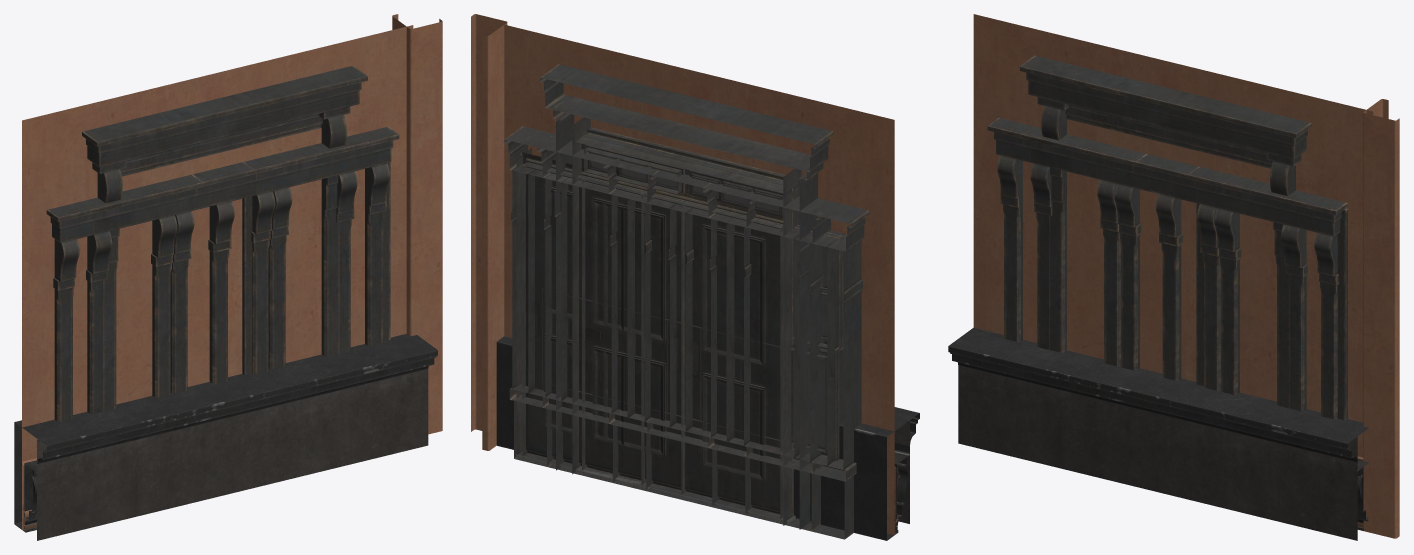
Rendered from modular_urban_apartments_facade.glb.
The picture shows the model from 3 angles, left to right: view 1: azimuth 30°, elevation 25°; view 2: azimuth 150°, elevation 25°; view 3: azimuth 330°, elevation 25°; orthographic projection. The views are drawn at different scales.
Parts seen in each view (by area): view 1: wall_door_centered_large_01, base_standard_01, door_centered_large_01, crown_standard_standard_01, wall_window_centered_small_01, window_centered_large_01, window_centered_double_01, wall_pier_corner_01, wall_window_centered_large_01, wall_window_centered_double_01, window_centered_small_01, window_offset_small_01 (+3 smaller); view 2: door_centered_large_01, door_window_small_01, wall_window_centered_large_01, window_centered_large_01, wall_door_centered_large_01, wall_pier_corner_01, wall_window_centered_double_01, crown_standard_standard_01, window_centered_double_01, window_centered_small_01, window_offset_small_01, wall_window_centered_small_01 (+3 smaller); view 3: wall_door_centered_large_01, base_standard_01, door_centered_large_01, crown_standard_standard_01, window_centered_large_01, wall_pier_corner_01, window_centered_double_01, wall_window_centered_small_01, window_centered_small_01, wall_window_centered_double_01, window_offset_small_01, wall_window_centered_large_01 (+3 smaller).
Part boxes in pixels (x1,y1,x2,y2): wall_door_centered_large_01: [22, 33, 406, 529]; base_standard_01: [37, 369, 428, 540]; door_centered_large_01: [82, 65, 367, 411]; crown_standard_standard_01: [14, 333, 437, 532]; wall_window_centered_small_01: [39, 33, 396, 404]; window_centered_large_01: [86, 158, 357, 413]; window_centered_double_01: [46, 126, 399, 421]; wall_pier_corner_01: [392, 14, 442, 434]; wall_window_centered_large_01: [22, 25, 413, 396]; wall_window_centered_double_01: [22, 28, 406, 386]; window_centered_small_01: [151, 159, 301, 397]; window_offset_small_01: [253, 135, 399, 373]; door_centered_large_01: [540, 64, 833, 529]; door_window_small_01: [516, 148, 869, 539]; wall_window_centered_large_01: [497, 23, 894, 535]; window_centered_large_01: [537, 147, 830, 531]; wall_door_centered_large_01: [504, 46, 894, 428]; wall_pier_corner_01: [471, 14, 507, 450]; wall_window_centered_double_01: [504, 26, 894, 514]; crown_standard_standard_01: [496, 336, 919, 540]; window_centered_double_01: [504, 126, 869, 490]; window_centered_small_01: [603, 164, 755, 514]; window_offset_small_01: [509, 144, 656, 466]; wall_window_centered_small_01: [525, 32, 884, 232]; wall_door_centered_large_01: [973, 14, 1372, 457]; base_standard_01: [958, 365, 1357, 540]; door_centered_large_01: [1020, 55, 1311, 408]; crown_standard_standard_01: [948, 327, 1368, 530]; window_centered_large_01: [1021, 134, 1307, 411]; wall_pier_corner_01: [1363, 99, 1399, 538]; window_centered_double_01: [987, 118, 1347, 419]; wall_window_centered_small_01: [1023, 64, 1335, 401]; window_centered_small_01: [1088, 151, 1241, 394]; wall_window_centered_double_01: [975, 54, 1363, 434]; window_offset_small_01: [1188, 175, 1347, 419]; wall_window_centered_large_01: [973, 63, 1373, 448].
Bounding box in the file's own units: 3.2 × 3 × 0.57.
Materials: 5 (5 with a texture image).
